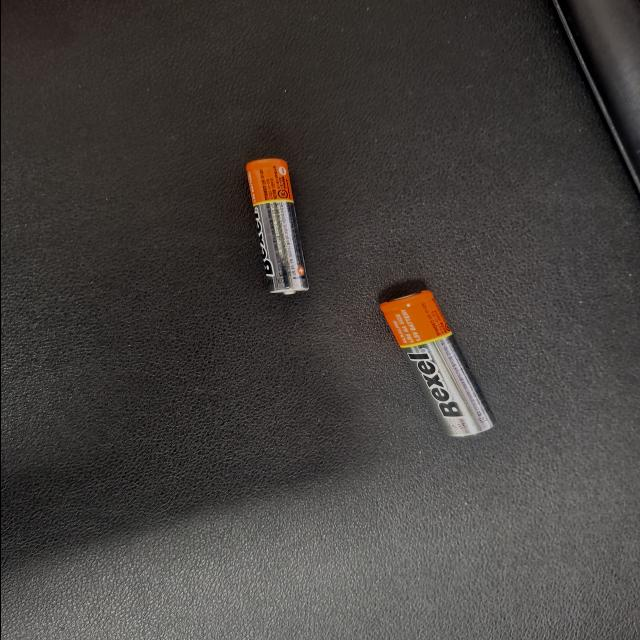AA: (176, 108, 370, 195)
AAA: (0, 247, 181, 296)
